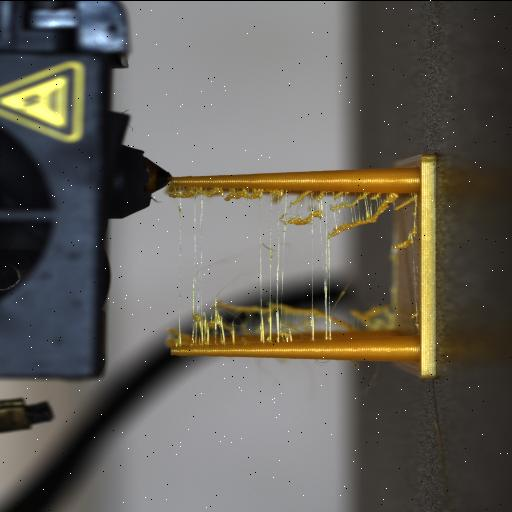stringing: (193, 306, 230, 342), (280, 208, 320, 226), (286, 189, 320, 205), (394, 194, 416, 210), (410, 310, 418, 318)
